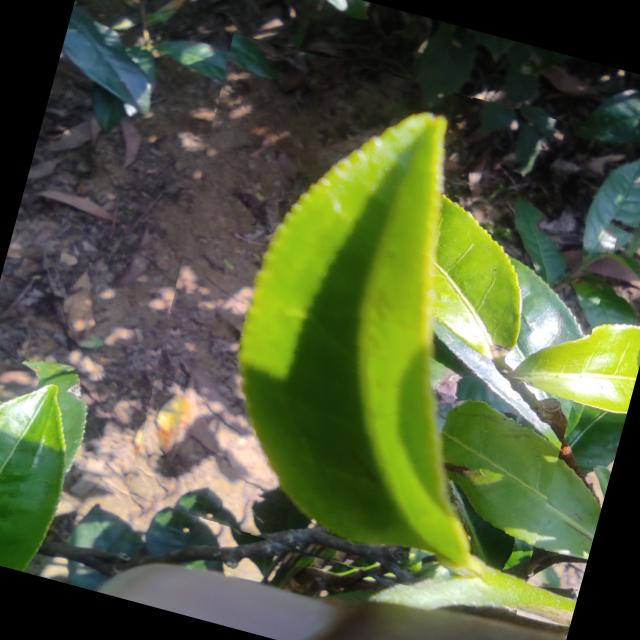Category C(4-7 days): (103, 32, 640, 622)
